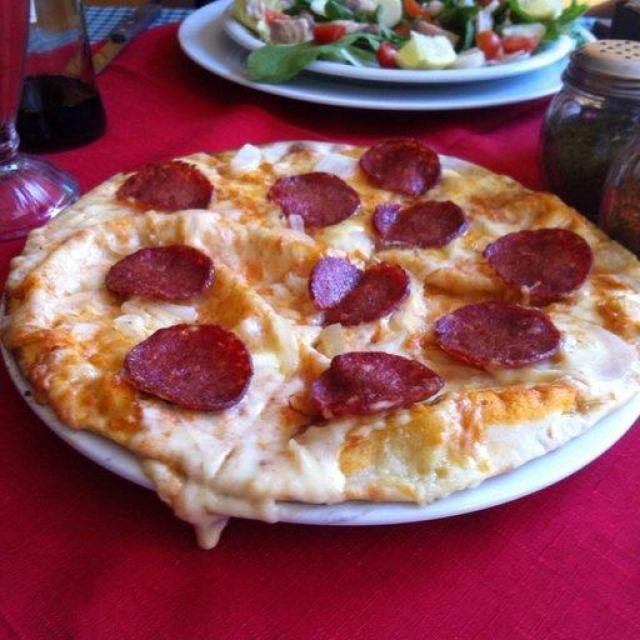food_waste: (1, 134, 640, 573), (175, 1, 640, 125)
